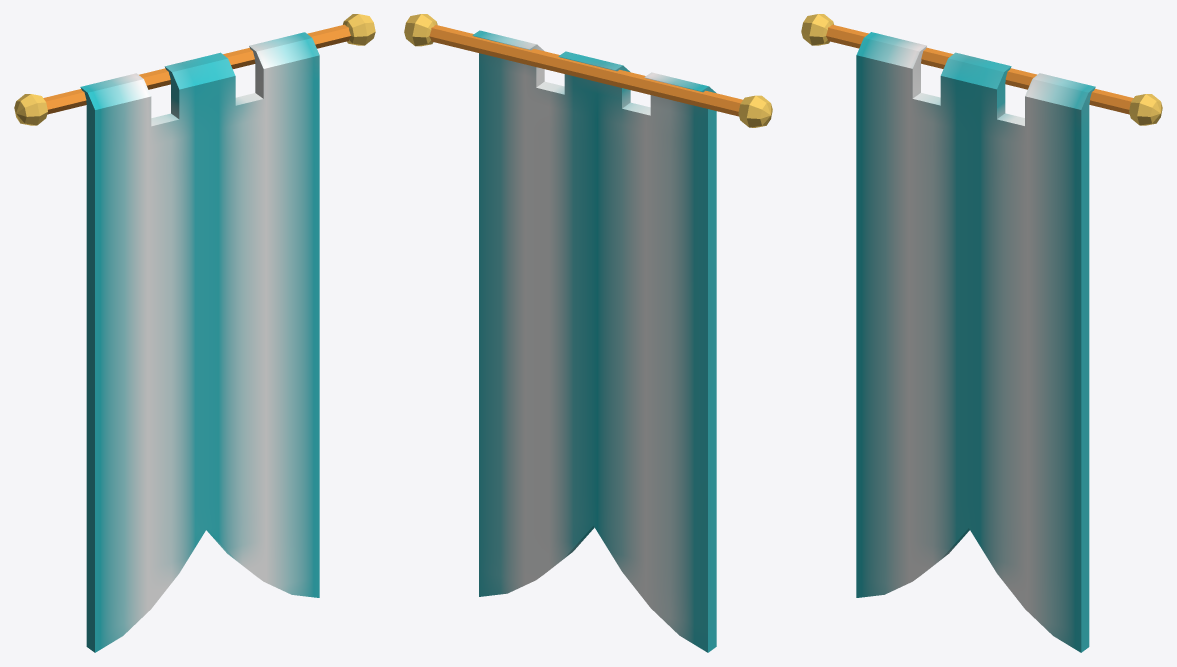
Rendered from kit-banner.glb.
3 views of the same model, side by side, from view 1: azimuth 30°, elevation 25°; view 2: azimuth 150°, elevation 25°; view 3: azimuth 330°, elevation 25° (orthographic). The views are drawn at different scales.
Parts seen in each view (by area): view 1: Cube.341; view 2: Cube.341; view 3: Cube.341.
Part boxes in pixels (x1,y1,x2,y2): Cube.341: (14,14,375,652); Cube.341: (404,14,772,652); Cube.341: (801,14,1162,652).
Size of the model in its own units: 0.8091 by 1.21 by 0.0844.
Materials: 1 (1 with a texture image).
